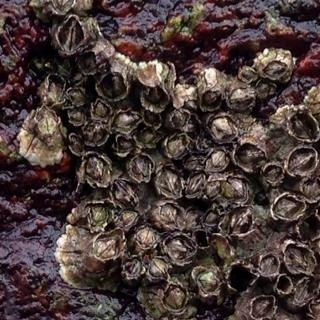Barnacle: (224, 204, 254, 234), (284, 148, 316, 176), (268, 193, 302, 219), (285, 243, 312, 275), (112, 177, 138, 208), (209, 114, 236, 143), (290, 112, 316, 141), (57, 18, 81, 49), (157, 167, 180, 198), (166, 234, 192, 261), (93, 233, 120, 259), (83, 156, 109, 183), (101, 71, 125, 100), (236, 143, 262, 169), (81, 118, 105, 146), (111, 111, 140, 134), (32, 108, 55, 136), (263, 57, 291, 80), (195, 268, 220, 293), (293, 277, 317, 303), (134, 224, 157, 251), (229, 85, 252, 111), (165, 285, 187, 311), (250, 295, 273, 318), (144, 85, 167, 108), (44, 74, 63, 101), (161, 203, 182, 227), (226, 175, 246, 199), (257, 254, 278, 276), (88, 203, 109, 225), (130, 158, 152, 179), (149, 256, 168, 280), (262, 163, 283, 184), (136, 128, 158, 148), (115, 212, 138, 231), (208, 148, 228, 169), (166, 136, 187, 156), (205, 208, 224, 228), (115, 137, 135, 156), (80, 51, 98, 72), (205, 181, 223, 201), (123, 258, 141, 277), (202, 88, 221, 106), (172, 109, 189, 129), (67, 106, 85, 124), (238, 67, 257, 84), (303, 178, 319, 198), (187, 173, 203, 193), (185, 211, 203, 228), (67, 134, 82, 153), (143, 111, 159, 128), (68, 87, 86, 102), (95, 100, 109, 119), (67, 69, 83, 84), (184, 98, 197, 111)
